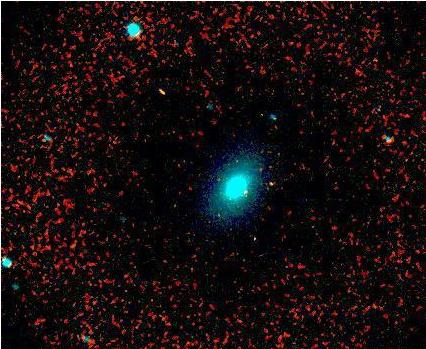star: (255, 167, 285, 197)
